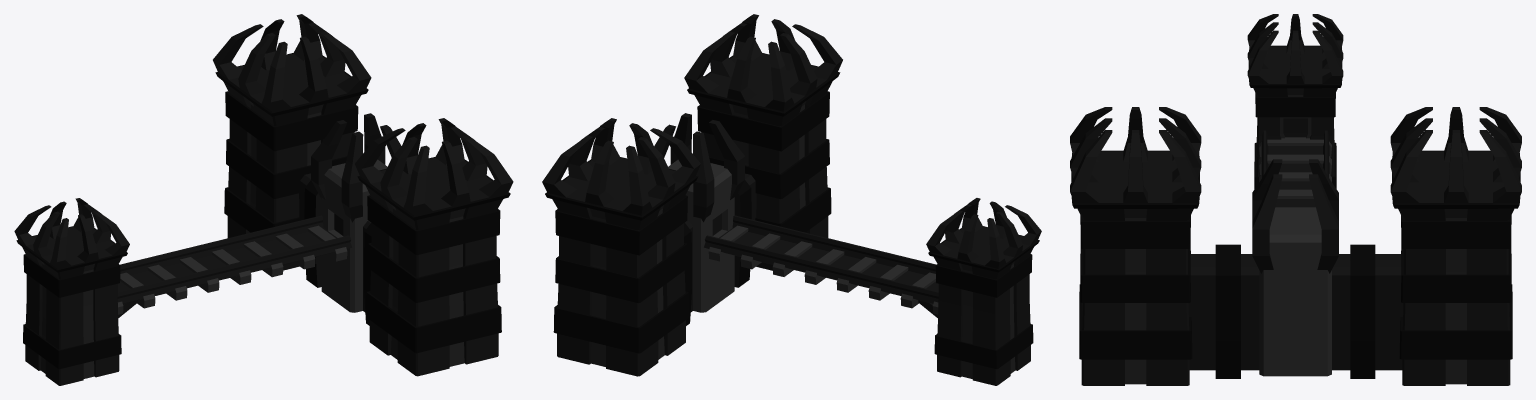
Rendered from Tower_01_Bridge.fbx.
3 views of the same model, side by side, from view 1: azimuth 30°, elevation 25°; view 2: azimuth 150°, elevation 25°; view 3: azimuth 270°, elevation 25° (orthographic). The views are drawn at different scales.
Visible parts, largest first — view 1: Tower_01_Bridge; view 2: Tower_01_Bridge; view 3: Tower_01_Bridge.
Part boxes in pixels (x1,y1,x2,y2): Tower_01_Bridge: (14,14,513,385); Tower_01_Bridge: (542,14,1041,385); Tower_01_Bridge: (1070,14,1521,385).
Size of the model in its own units: 23192 by 12819 by 21270.
